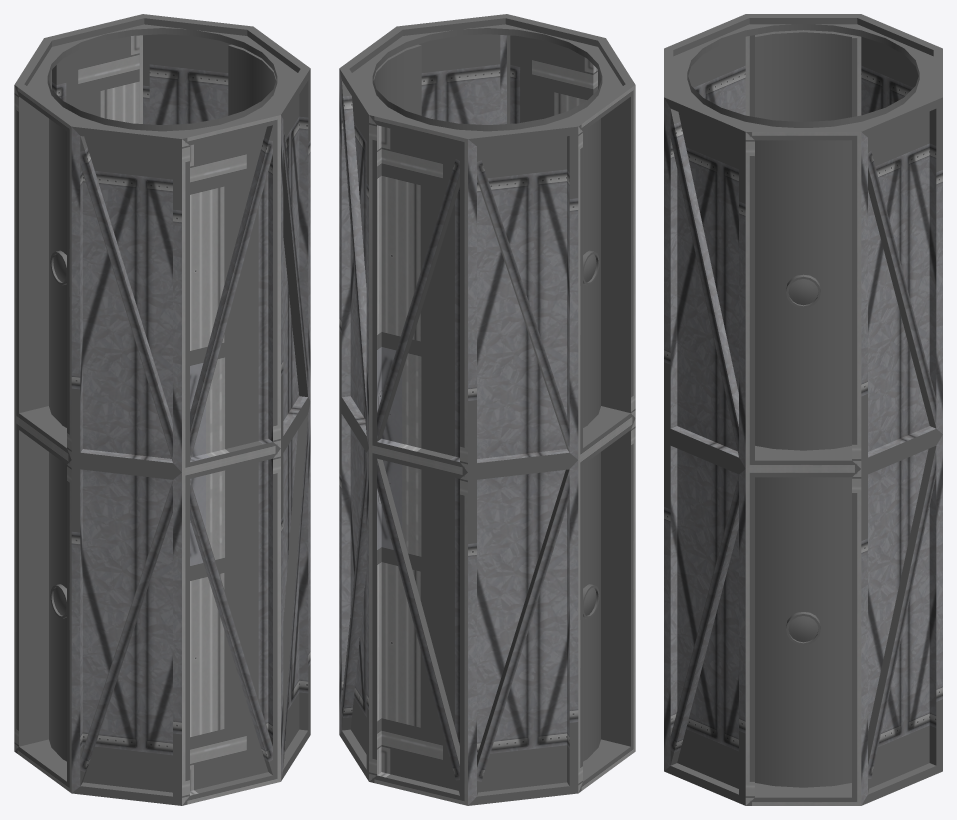
The model's file is nashira_crew_s1_2.obj.
The picture shows the model from 3 angles, left to right: view 1: azimuth 30°, elevation 25°; view 2: azimuth 150°, elevation 25°; view 3: azimuth 270°, elevation 25°; orthographic projection.
Parts seen in each view (by area): view 1: mesh1, windows1; view 2: mesh1, windows1; view 3: mesh1, windows1.
Part boxes in pixels (left/top/right/bottom): mesh1: left=14, top=14, right=310, bottom=805; windows1: left=53, top=254, right=66, bottom=615; mesh1: left=339, top=14, right=635, bottom=805; windows1: left=583, top=254, right=596, bottom=615; mesh1: left=664, top=14, right=942, bottom=805; windows1: left=788, top=279, right=818, bottom=642.
Size of the model in its own units: 1.5 by 4 by 1.5.
2 materials, 2 textured.
